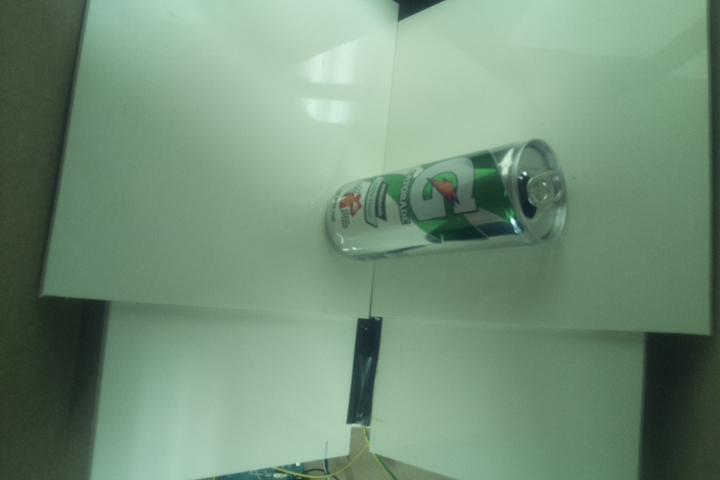can: (320, 136, 568, 265)
